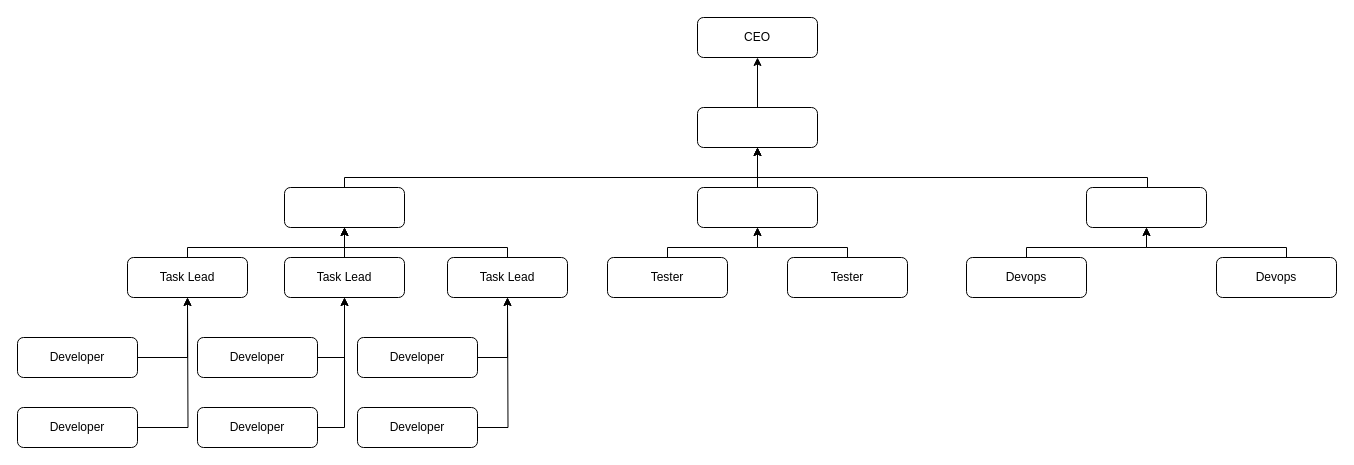
Image size: 1354x465. Some labels were removed from this diagram. The centre of each missing label's shape, as x and y in pixels:
"Devops Manager" goes at (1146,207).
"Lead Developer" goes at (344,207).
"Lead Testers" goes at (757,207).
"Project Manager(s)" goes at (757,127).
